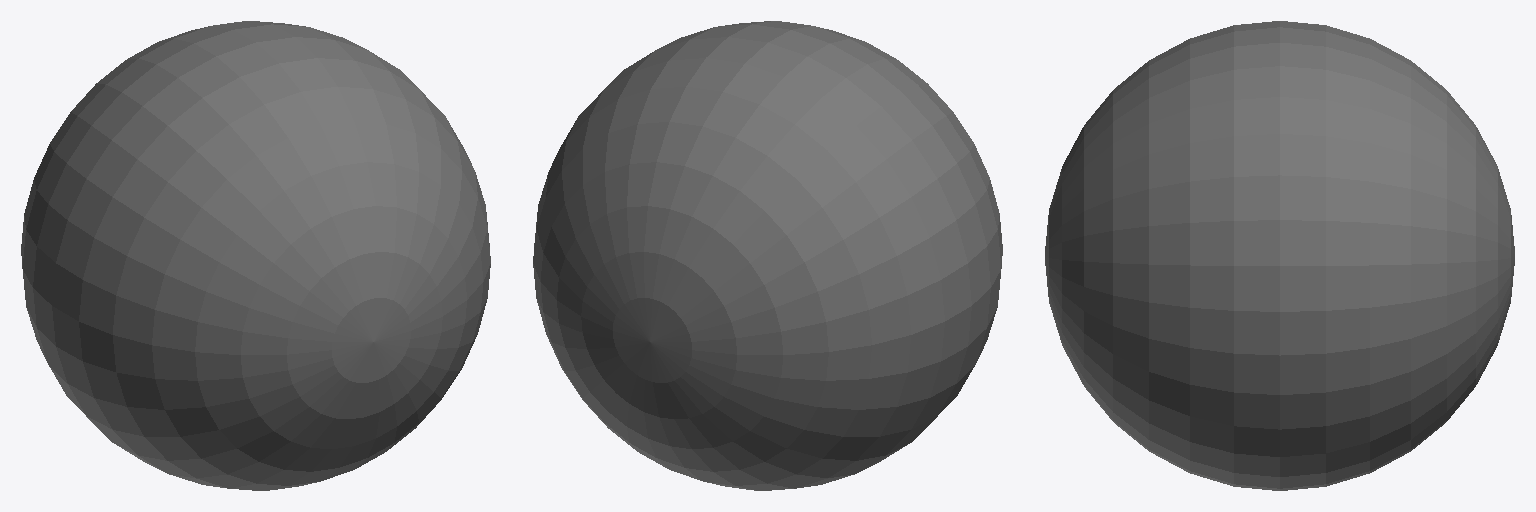
File: goo8.obj
3 renders of one model, left to right at view 1: azimuth 30°, elevation 25°; view 2: azimuth 150°, elevation 25°; view 3: azimuth 270°, elevation 25°, orthographic.
Visible parts, largest first — view 1: Sphere001; view 2: Sphere001; view 3: Sphere001.
Part boxes in pixels (left/top/right/bottom): Sphere001: left=21, top=21, right=490, bottom=490; Sphere001: left=533, top=21, right=1002, bottom=490; Sphere001: left=1045, top=21, right=1514, bottom=490.
Bounding box in the file's own units: 200 × 200 × 200.